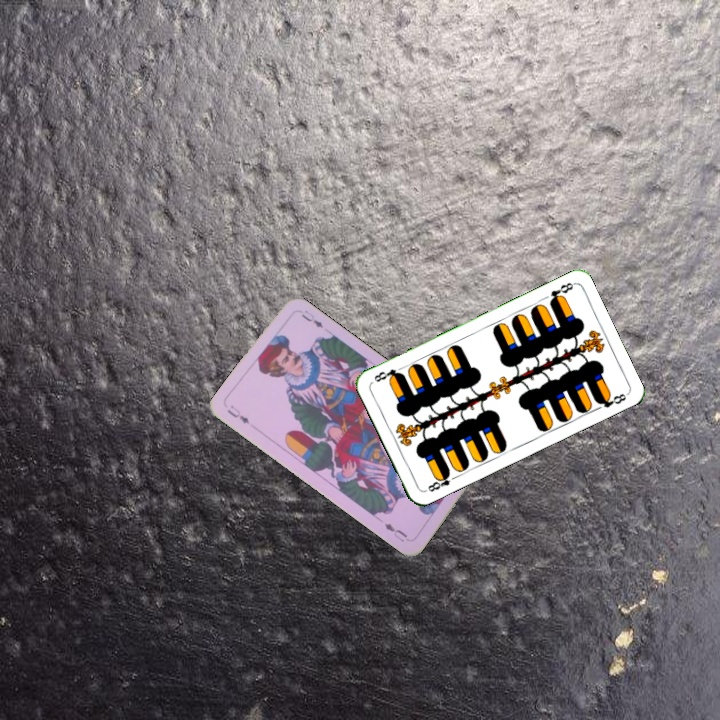E8: (424, 468, 460, 494), (545, 278, 576, 307)
EU: (223, 401, 252, 427)
